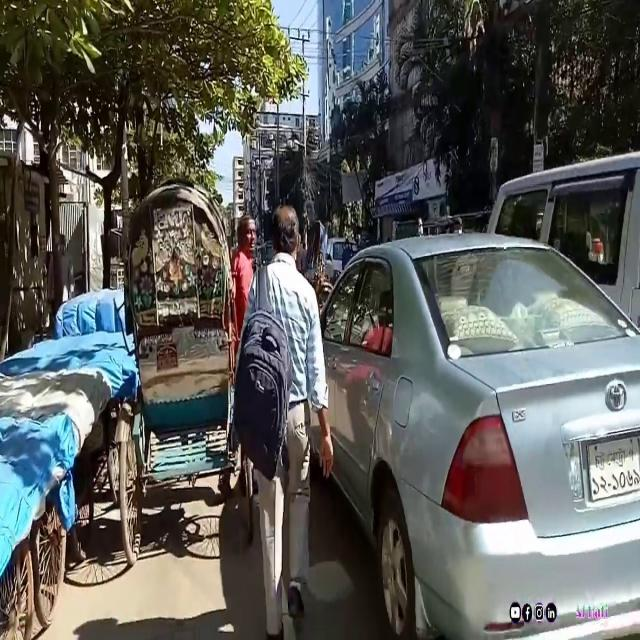silver: (293, 235, 640, 640)
